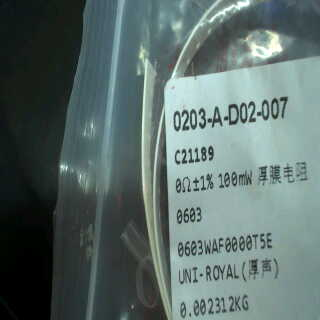0R: (174, 166, 254, 226)
